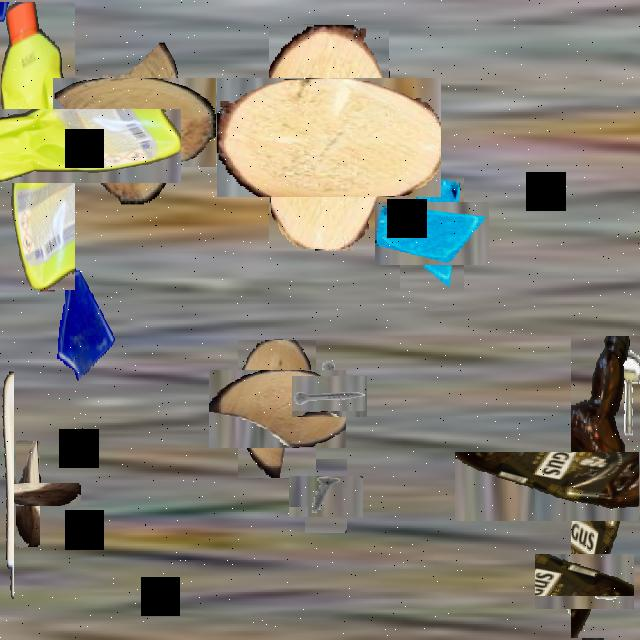glass: (388, 188, 477, 278), (51, 263, 117, 381)
metal: (546, 543, 624, 620), (301, 367, 359, 426), (297, 467, 355, 525)
plastic: (512, 394, 640, 579), (0, 55, 128, 236), (0, 368, 14, 599)
wood: (243, 51, 415, 223), (72, 59, 198, 186), (223, 355, 331, 463), (0, 461, 60, 526)
